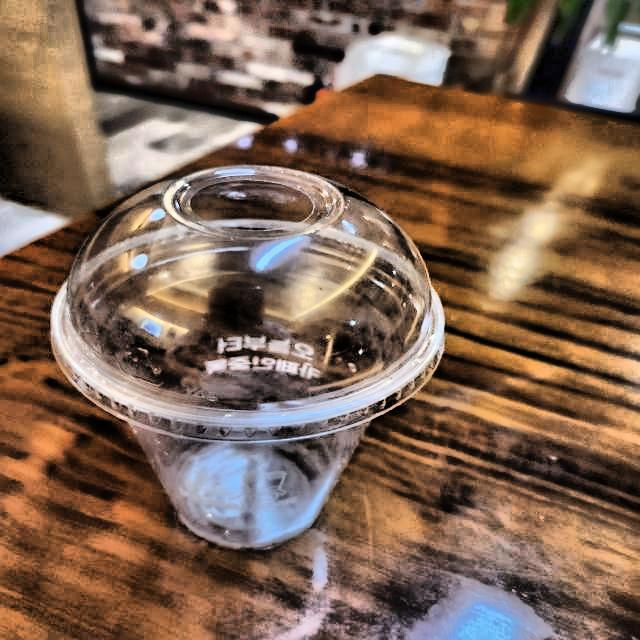plastic cup: (0, 148, 506, 605)
